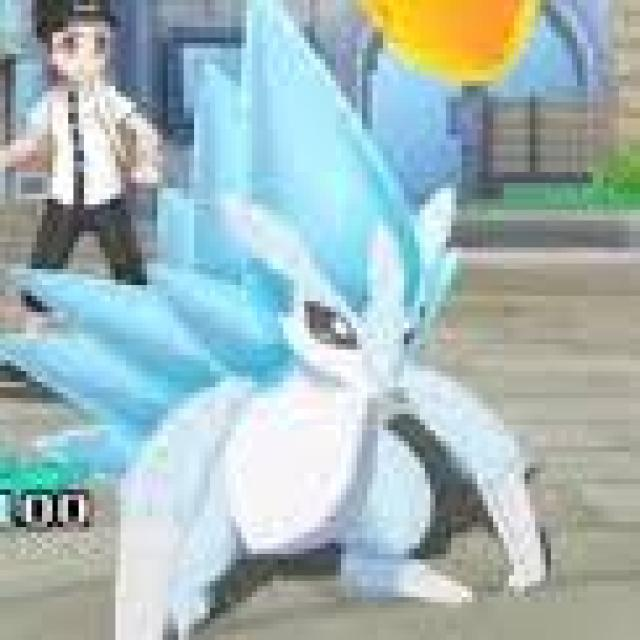Alolan: (115, 71, 535, 605)
